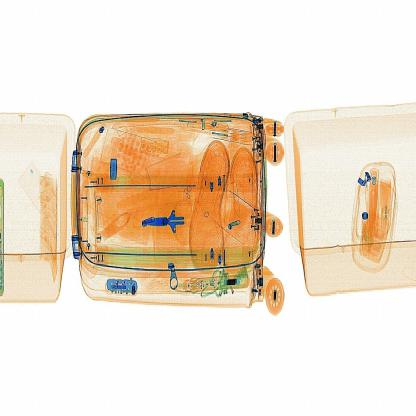gun: (137, 191, 203, 256)
